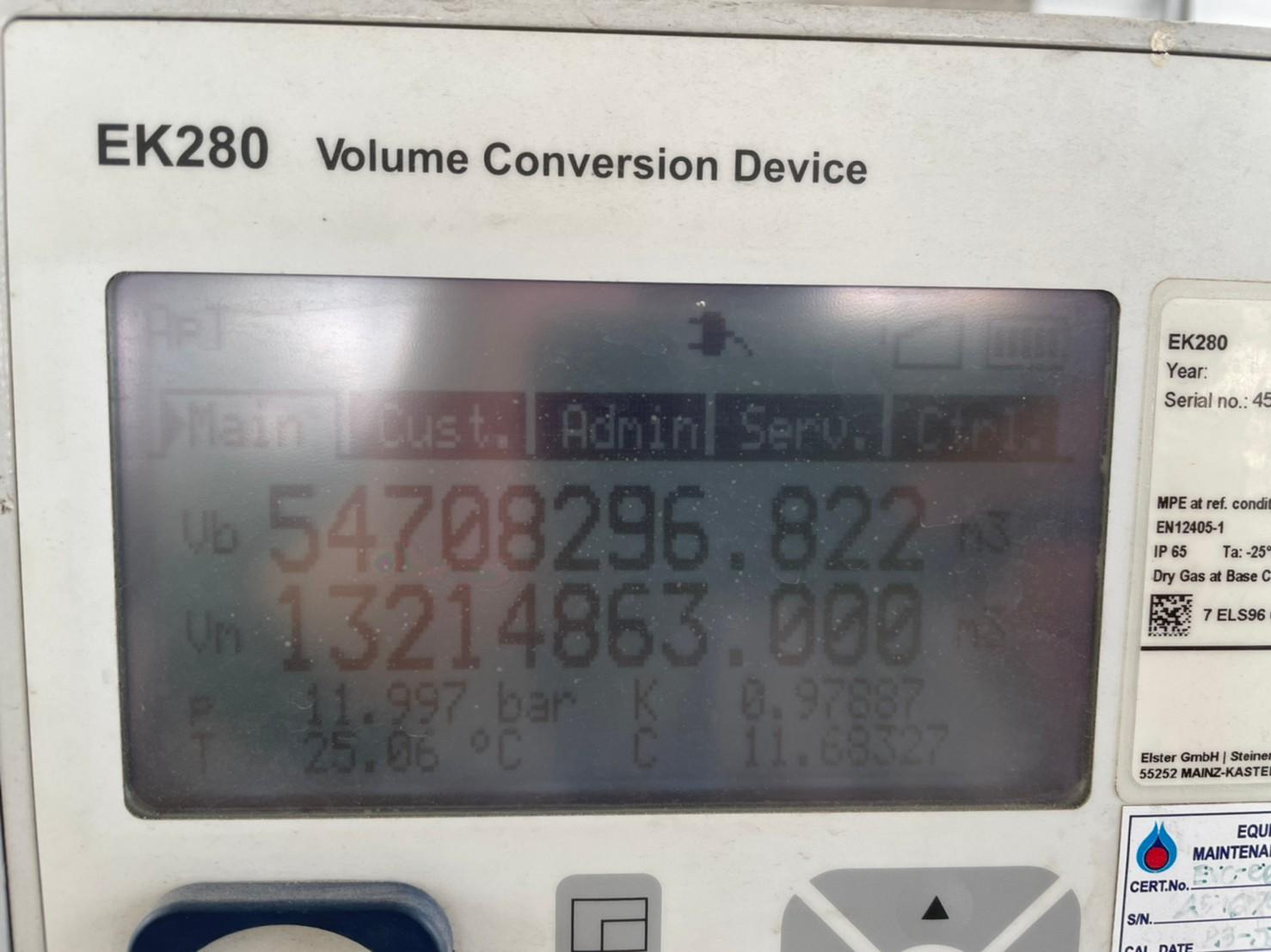digital_screen: (105, 277, 1115, 825)
